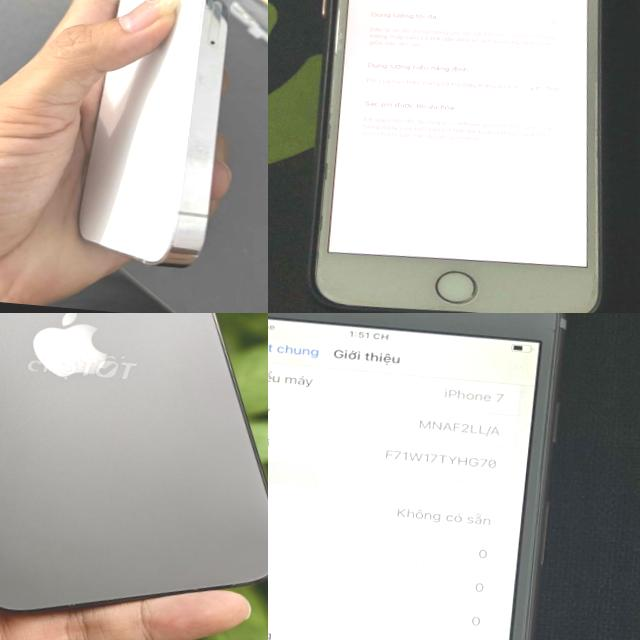scratch: (504, 313, 569, 340), (302, 207, 328, 274), (578, 260, 600, 310), (322, 106, 336, 140), (316, 158, 332, 182)
